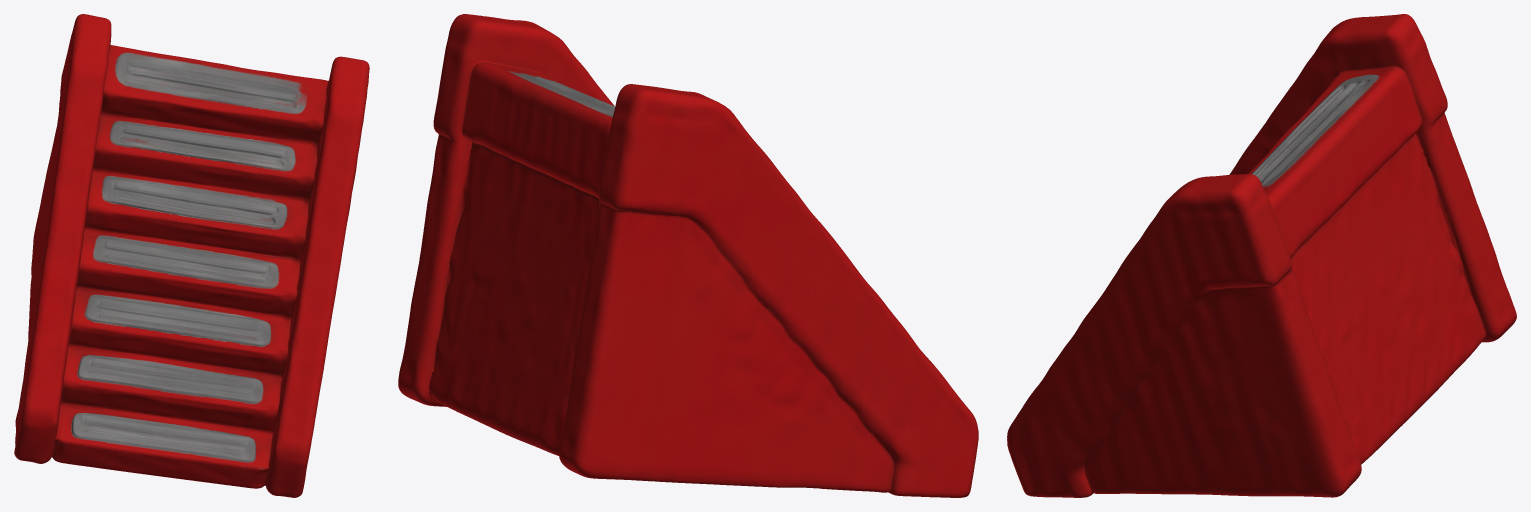
File: stairs.glb
3 views of the same model, side by side, from view 1: azimuth 30°, elevation 25°; view 2: azimuth 150°, elevation 25°; view 3: azimuth 270°, elevation 25° (orthographic). The views are drawn at different scales.
Size of the model in its own units: 0.8934 by 0.8615 by 0.887.
Materials: 1 (1 with a texture image).
